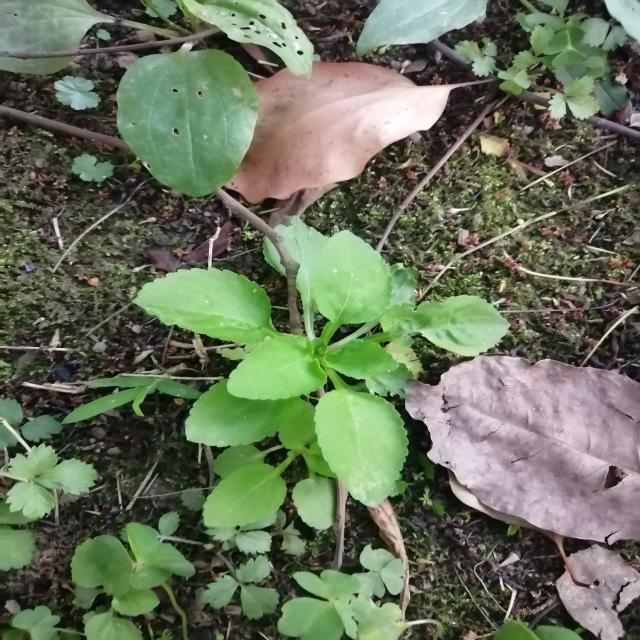Viola: (121, 244, 502, 516)
